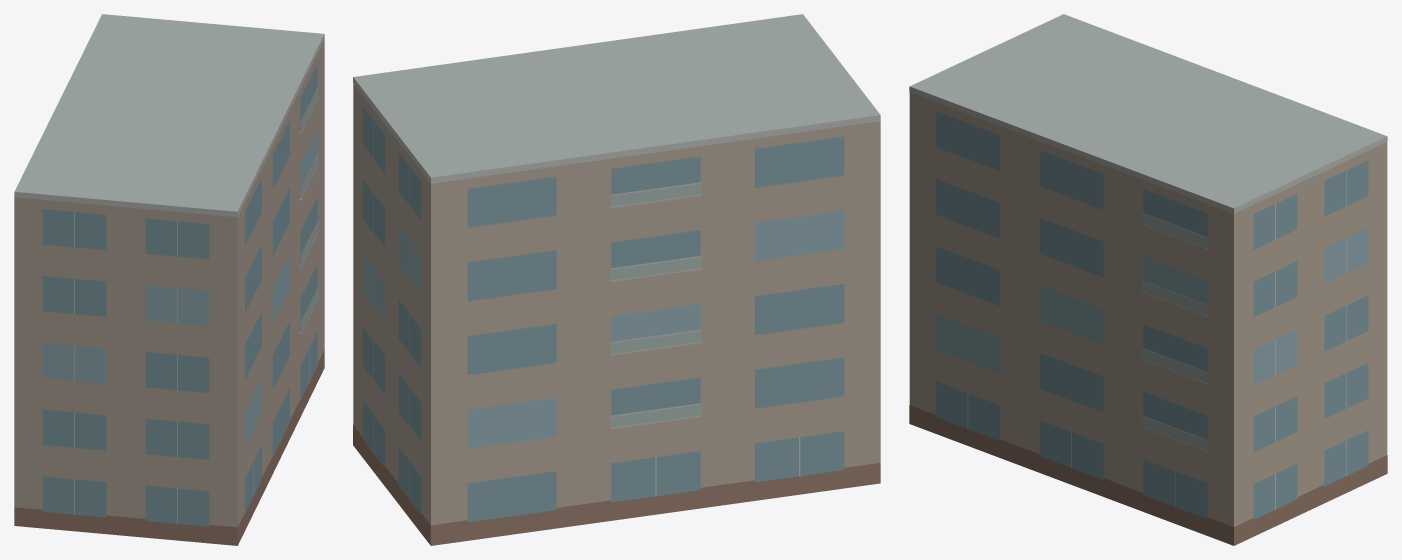
File: survey-upis-32983154.glb
3 views of the same model, side by side, from view 1: azimuth 30°, elevation 25°; view 2: azimuth 150°, elevation 25°; view 3: azimuth 270°, elevation 25° (orthographic). The views are drawn at different scales.
Visible parts, largest first — view 1: survey-upis-32983154.tmp; view 2: survey-upis-32983154.tmp; view 3: survey-upis-32983154.tmp.
Part boxes in pixels (<box>): survey-upis-32983154.tmp: <box>14,14,324,545</box>; survey-upis-32983154.tmp: <box>353,14,880,545</box>; survey-upis-32983154.tmp: <box>909,14,1387,545</box>.
Bounding box in the file's own units: 18.12 × 14.66 × 18.82.
